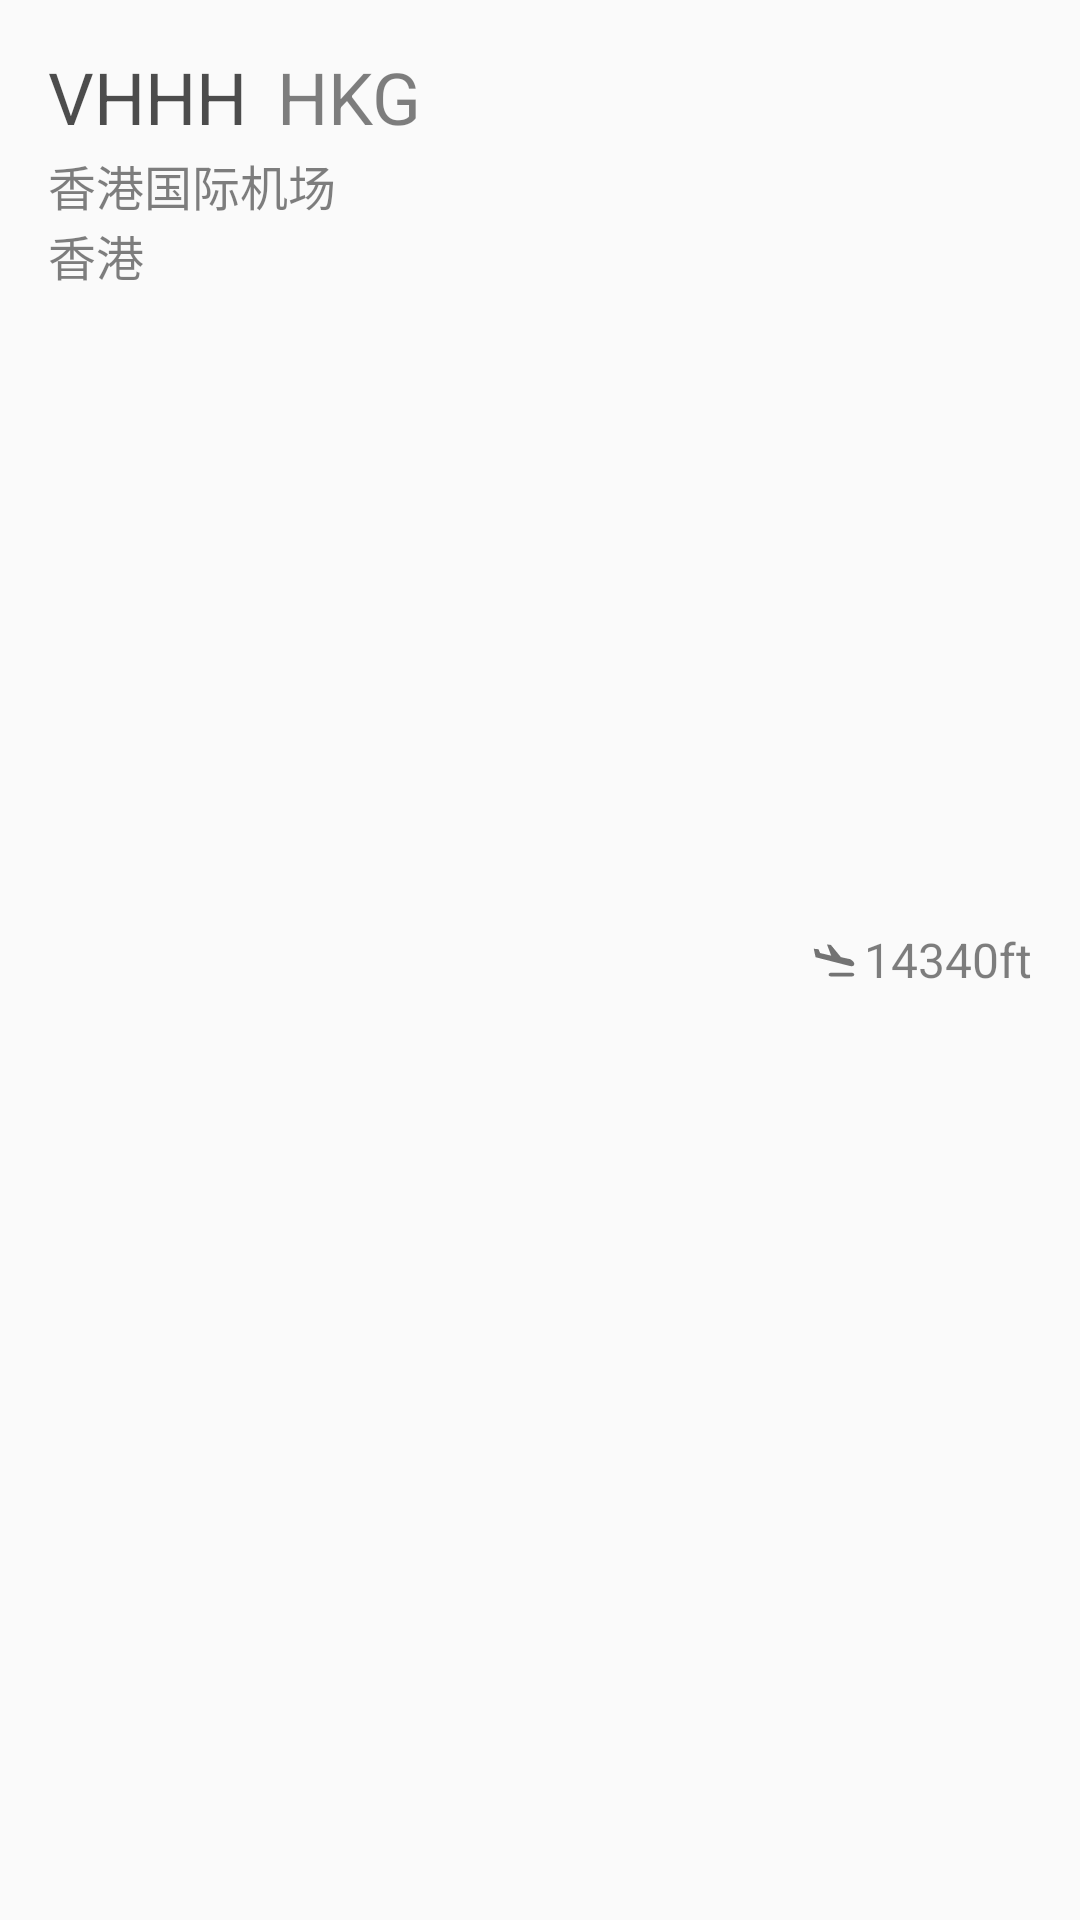

Icon click points for this 1080×1920 phone screenshot, format [x,y]:
runway: [834,960]
